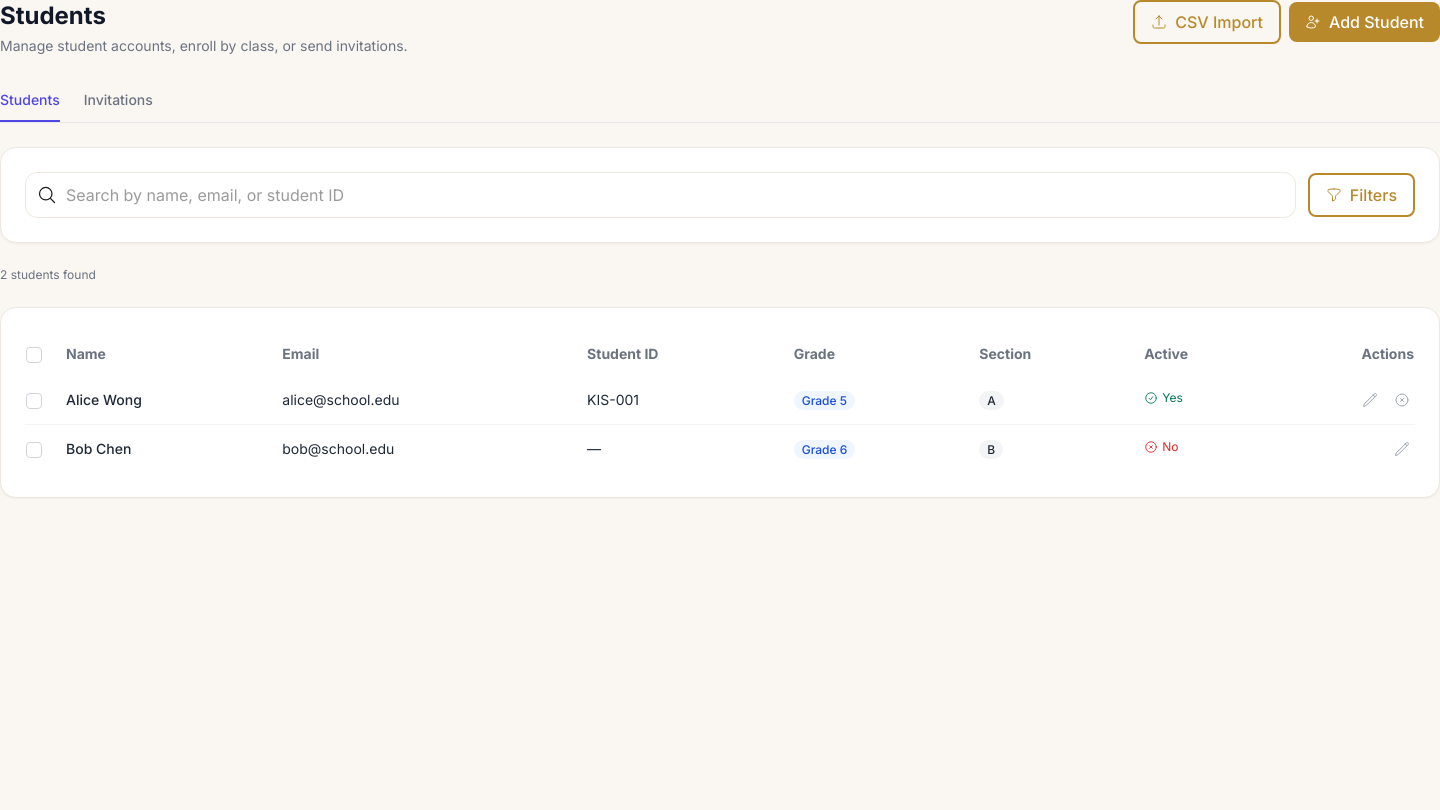
Test: StudentsPage › create student modal › submitting with empty fields shows validation errors
This screenshot has width=1440, height=810.
Step 1. Click the button "Add Student" → (1364, 22), box [1289,2,1439,42]
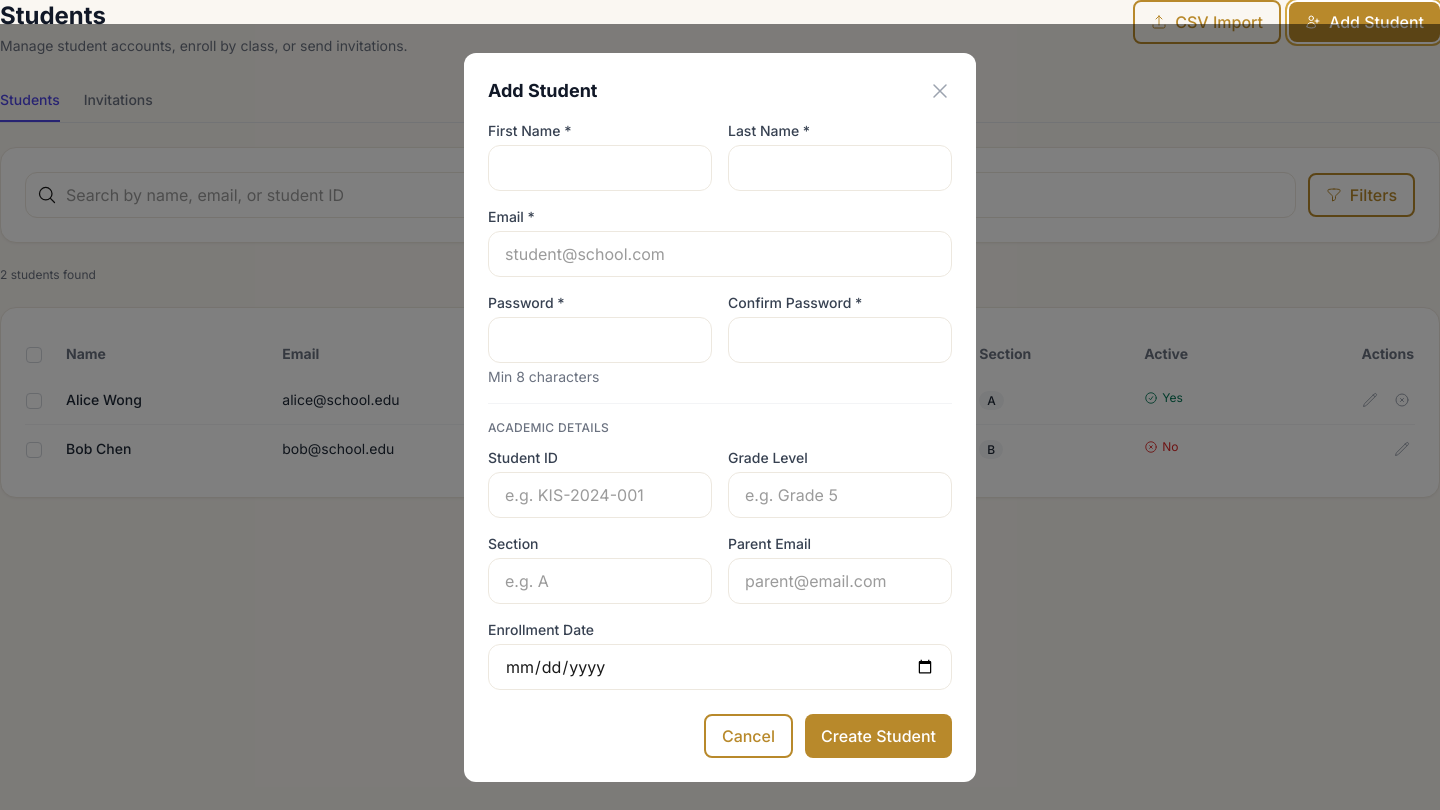
Step 2. Click the button "Create Student" → (878, 736), box [805,714,952,758]
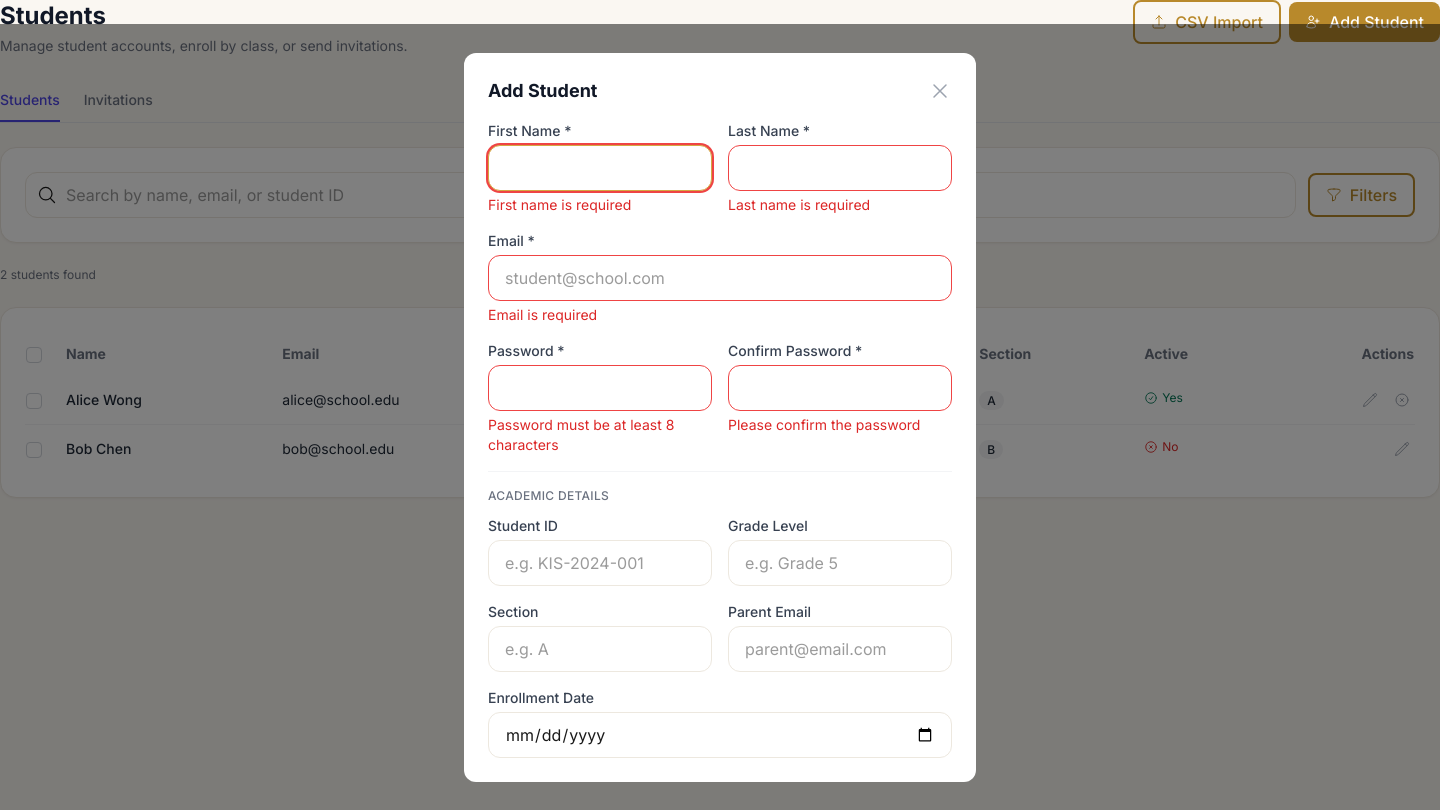
Check: the text "First name is required" is shown, box [488,196,631,212]
